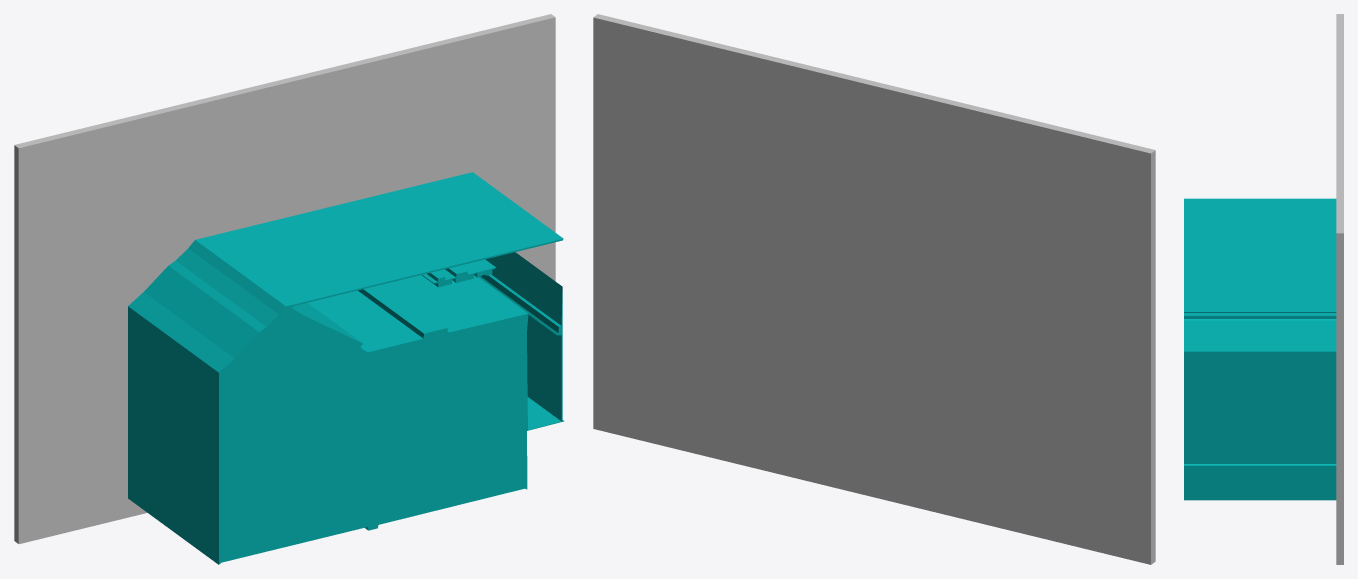
3 renders of one model, left to right at view 1: azimuth 30°, elevation 25°; view 2: azimuth 150°, elevation 25°; view 3: azimuth 270°, elevation 25°, orthographic. The views are drawn at different scales.
Visible parts, largest first — view 1: world; view 2: world; view 3: world.
Boxes of the visible parts, x1,y1,x2,y2 form: world: [14, 14, 564, 564]; world: [593, 14, 1155, 564]; world: [1184, 14, 1343, 564].
Bounding box in the file's own units: 10.23 × 7.21 × 3.15.
